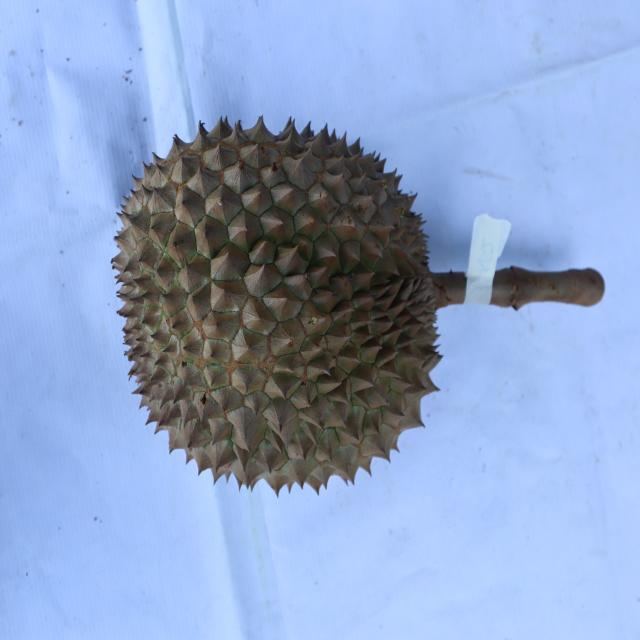mature: (111, 114, 444, 490)
